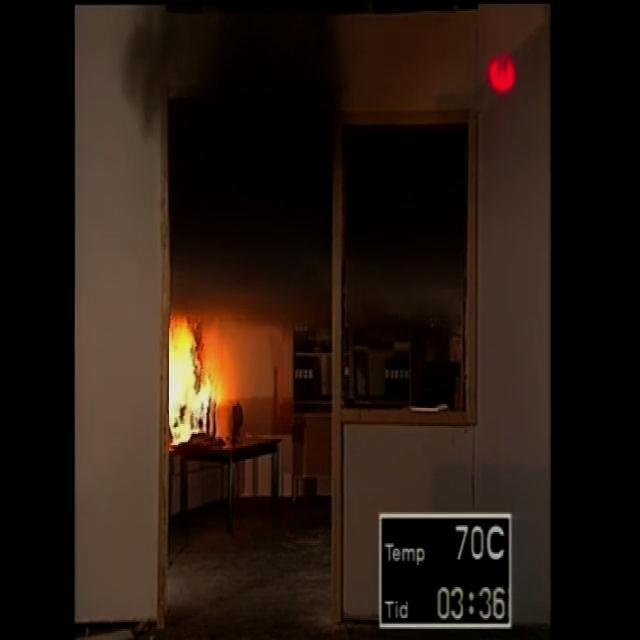fire: (167, 307, 243, 445)
